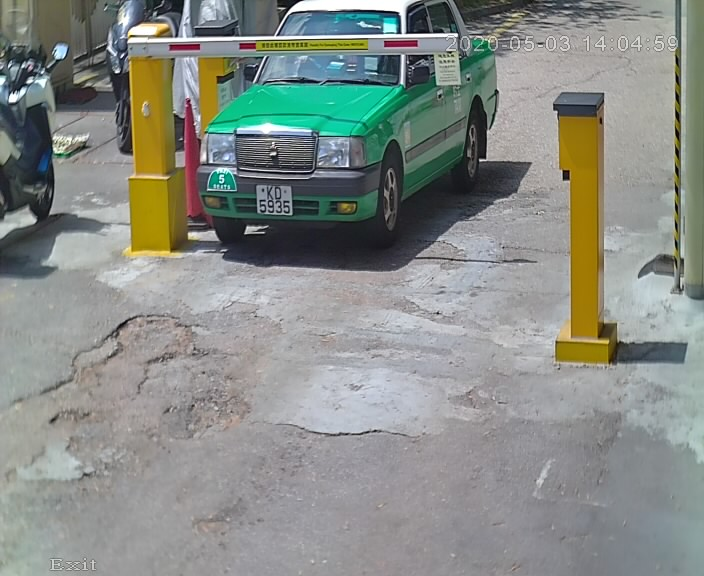taxi: (148, 2, 518, 273)
taxi_mark: (203, 162, 242, 199)
